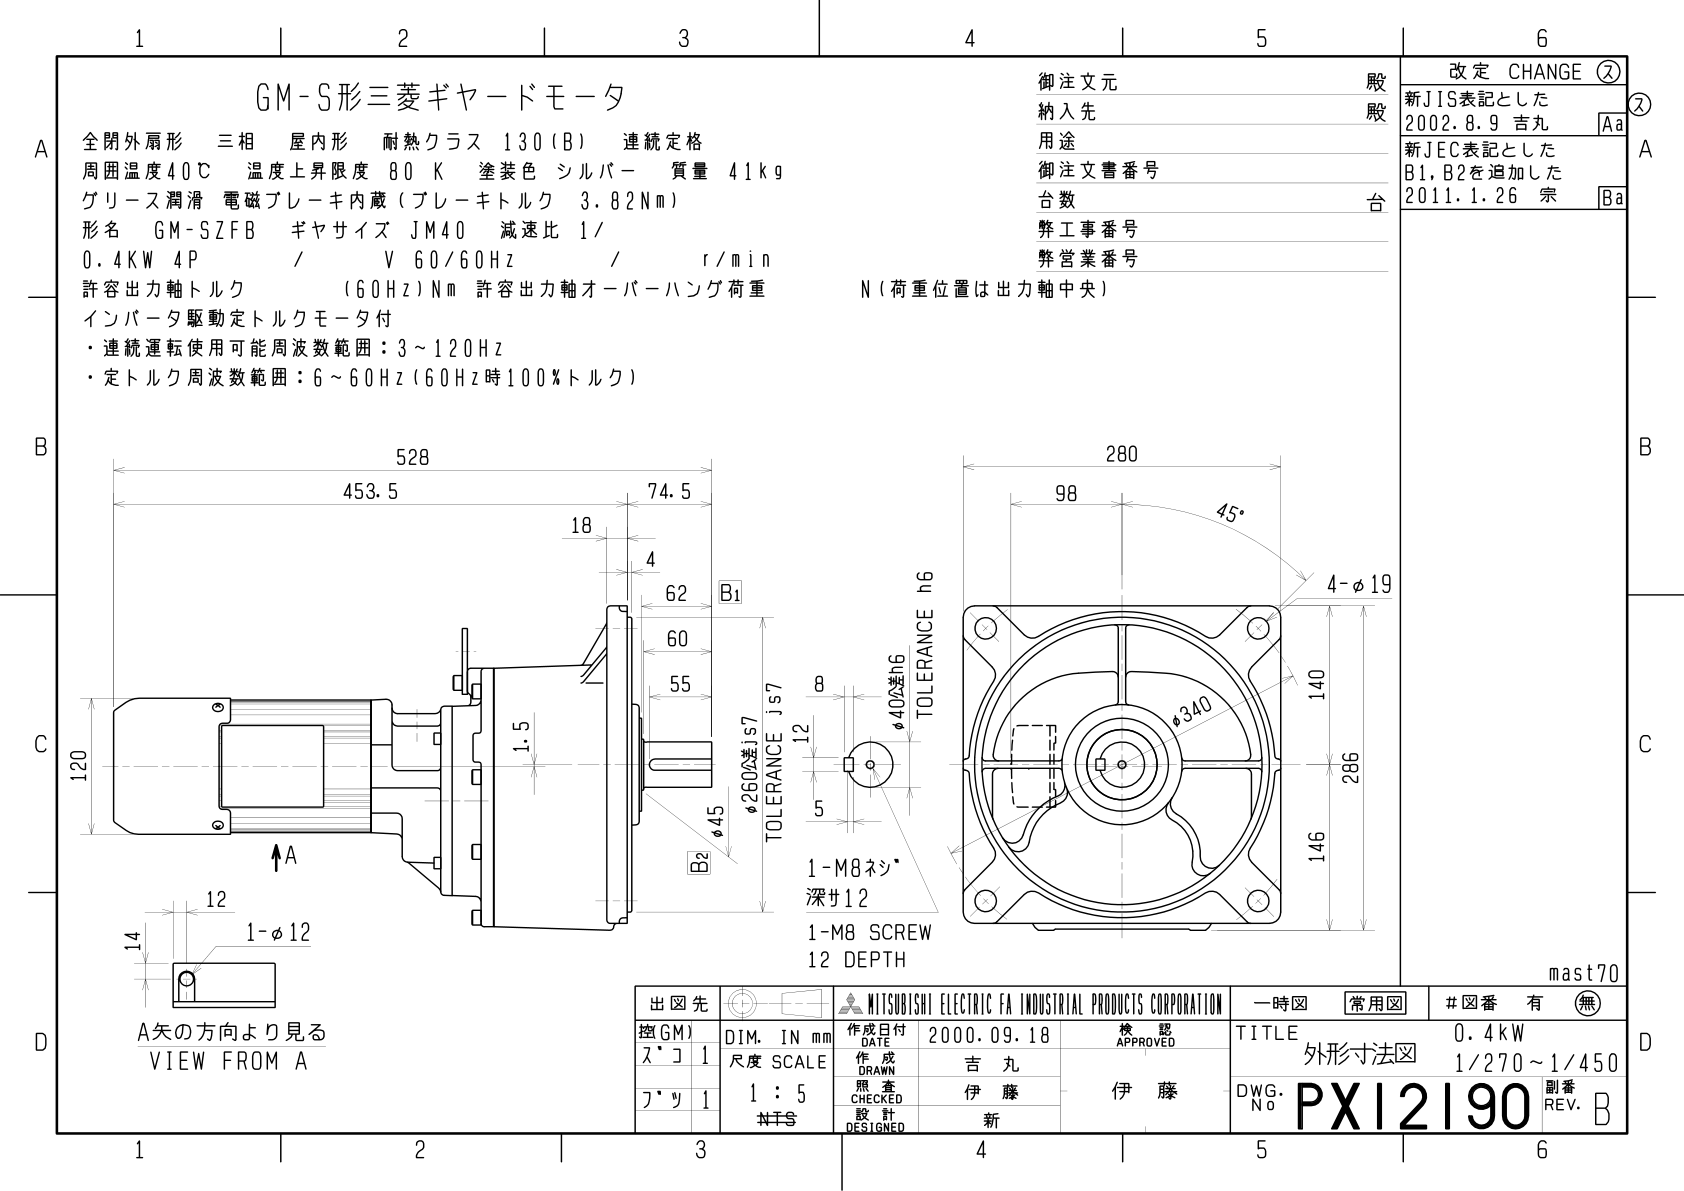GM_S_インバタ屋内＿三相_フランジ: (4, 15, 1684, 1191)
